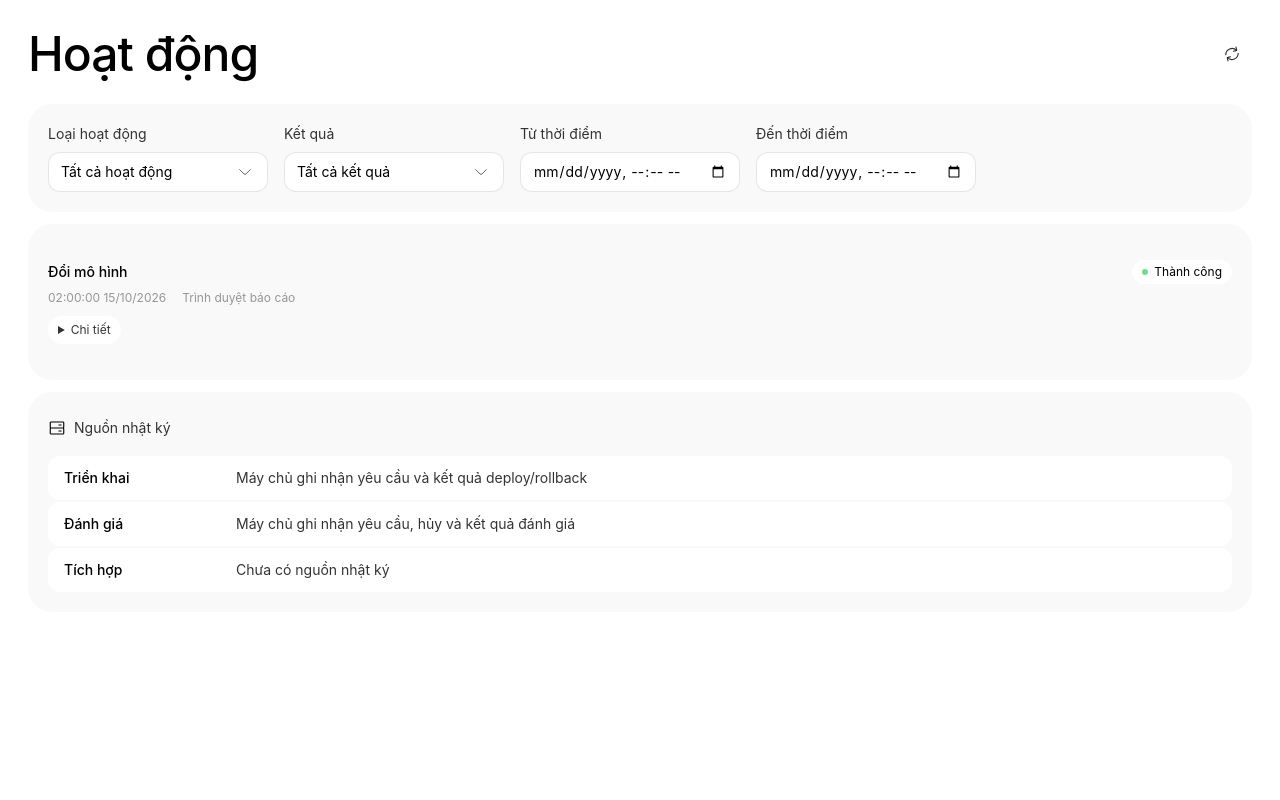
WorkspaceActivity › renders only whitelisted metadata as text and hides sensitive fields at every depth
Click the heading "Chi tiết" at (84, 330), box [48, 316, 121, 344]
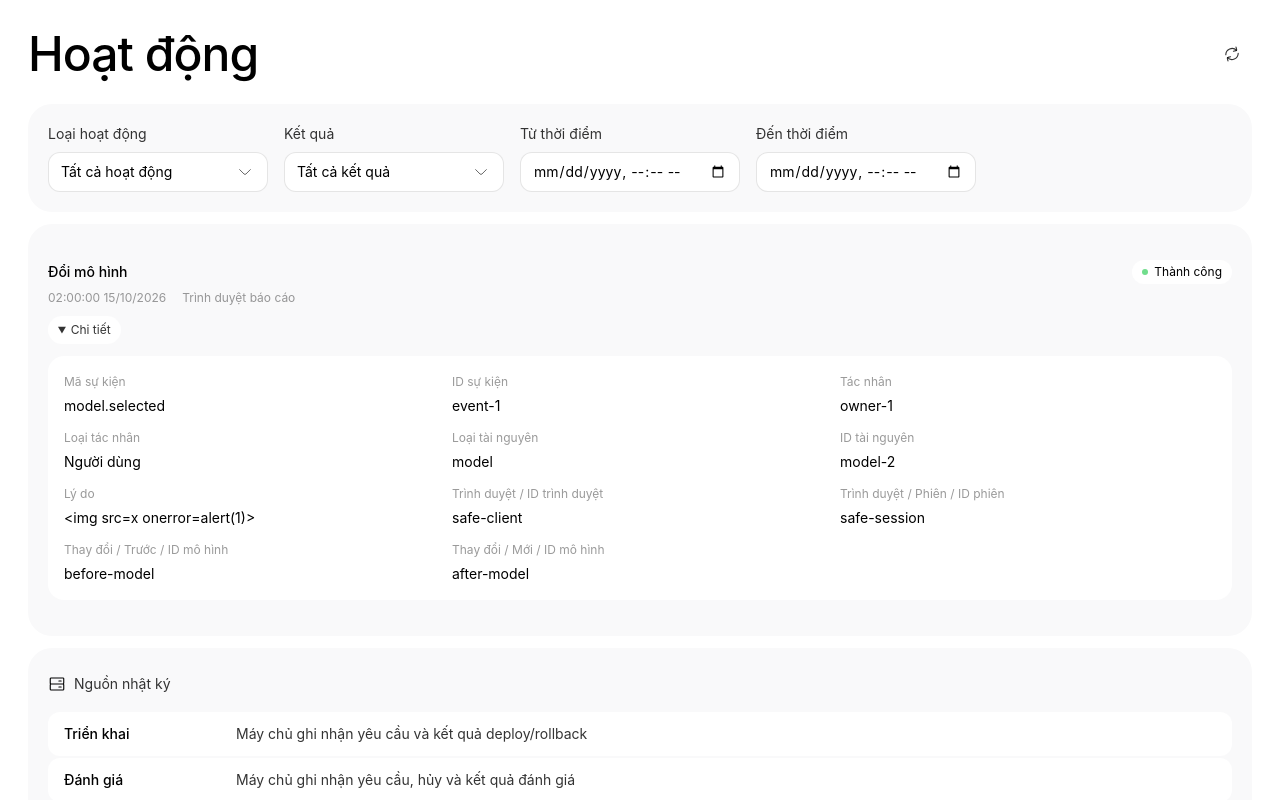
Expected: the text "<img src=x onerror=alert(1)>" is shown, [64, 509, 255, 526]
Expected: the text "safe-client" is shown, [452, 509, 522, 526]
Expected: the text "safe-session" is shown, [840, 509, 925, 526]
